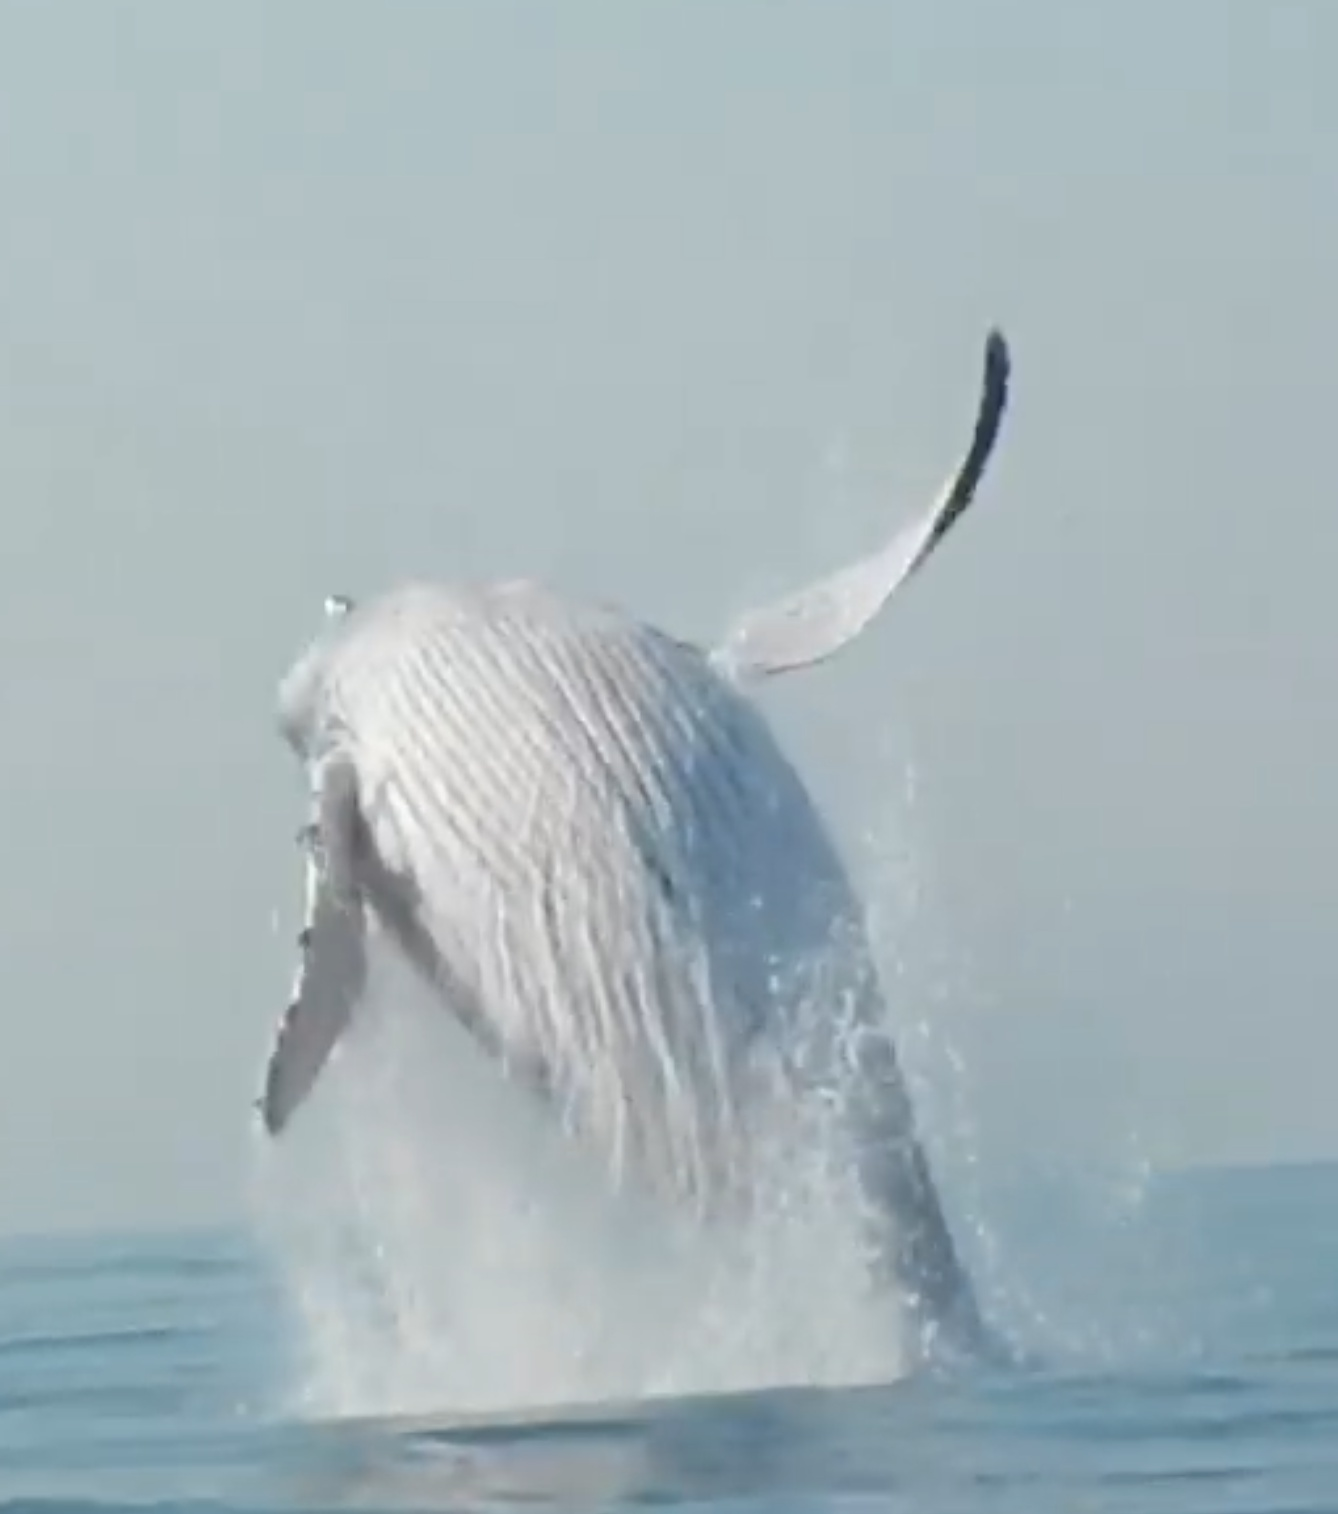humpback: (273, 597, 996, 1363)
